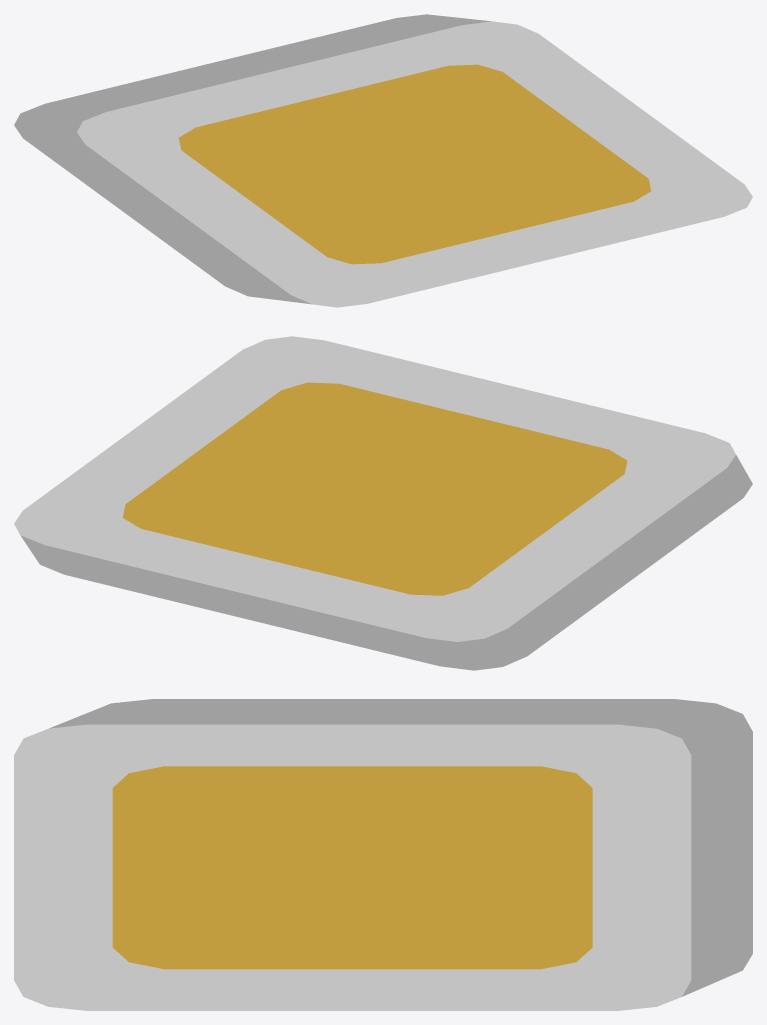
Rendered from W_dpoint_stage_standard.fbx.
The picture shows the model from 3 angles, top to bottom: view 1: azimuth 30°, elevation 25°; view 2: azimuth 150°, elevation 25°; view 3: azimuth 270°, elevation 25°; orthographic projection. The views are drawn at different scales.
Parts seen in each view (by area): view 1: W_dpoint_stage_standard; view 2: W_dpoint_stage_standard; view 3: W_dpoint_stage_standard.
Boxes of the visible parts, <box> form: W_dpoint_stage_standard: <box>14,14,752,307</box>; W_dpoint_stage_standard: <box>14,336,752,670</box>; W_dpoint_stage_standard: <box>14,699,752,1010</box>.
Size of the model in its own units: 3.81 by 6.22e-07 by 3.82.
